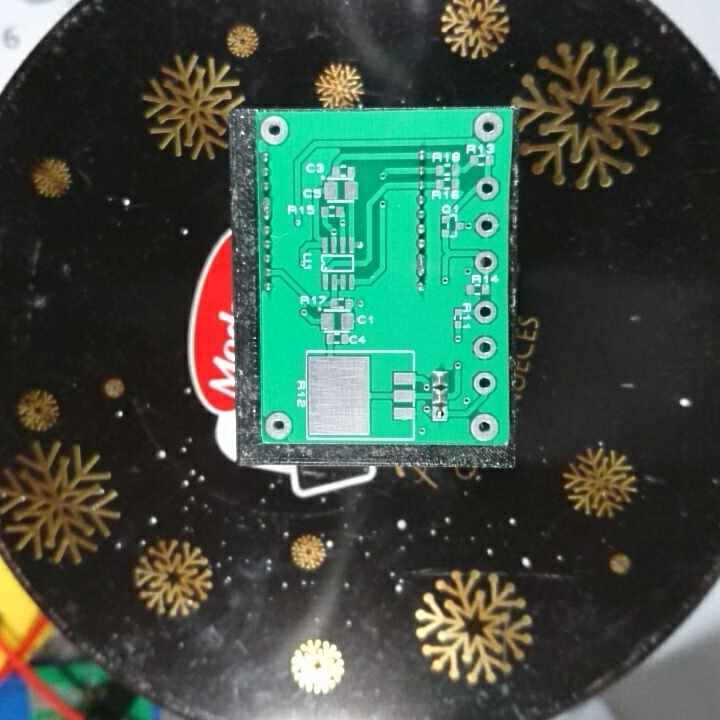F: (473, 112, 508, 145), (260, 115, 293, 147), (470, 331, 501, 363), (263, 411, 296, 441), (467, 412, 501, 441), (472, 247, 503, 278), (471, 298, 499, 327), (470, 369, 500, 396), (473, 175, 501, 203), (474, 214, 502, 240), (430, 403, 450, 426)
P: (413, 251, 432, 280), (259, 193, 274, 223)
